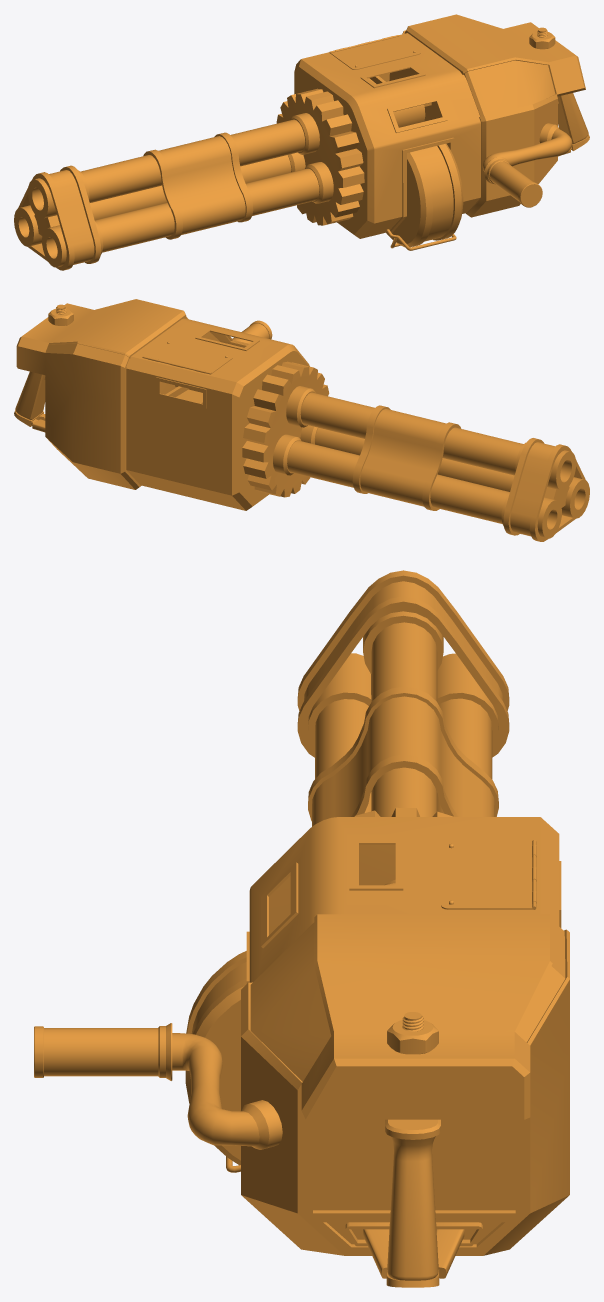
The model's file is LP_minik.fbx.
3 renders of one model, top to bottom at view 1: azimuth 30°, elevation 25°; view 2: azimuth 150°, elevation 25°; view 3: azimuth 270°, elevation 25°, orthographic. The views are drawn at different scales.
Parts seen in each view (by area): view 1: korpus_low, korpus2_low, detal2_dulo_low, gear_low, magazin_low, dulo2_low, detal_dulo_low, dulo1_low, dulo3_low, detal_dulo_2_low, zatvr_low, metal_ru_low (+9 smaller); view 2: korpus_low, korpus2_low, detal2_dulo_low, gear_low, dulo3_low, dulo1_low, detal_dulo_low, dulo2_low, detal_dulo_2_low, zatvr_low, handle_low, dulo1_osn_low (+4 smaller); view 3: korpus2_low, korpus_low, detal2_dulo_low, detal_dulo_low, dulo1_low, handle_low, zatvr_low, ru_derz_low, magazin_low, metal_ru_low, dulo2_low, dulo3_low (+7 smaller).
Part boxes in pixels (box(x1,y1,x2,y2)): korpus_low: box(294, 33, 480, 238); korpus2_low: box(402, 14, 585, 217); detal2_dulo_low: box(143, 132, 253, 239); gear_low: box(276, 88, 364, 225); magazin_low: box(386, 143, 463, 247); dulo2_low: box(94, 168, 319, 252); detal_dulo_low: box(14, 165, 103, 270); dulo1_low: box(80, 119, 304, 202); dulo3_low: box(90, 155, 291, 220); detal_dulo_2_low: box(49, 170, 94, 264); zatvr_low: box(330, 36, 420, 69); metal_ru_low: box(482, 128, 572, 171); korpus_low: box(126, 318, 309, 510); korpus2_low: box(16, 299, 188, 489); detal2_dulo_low: box(352, 405, 461, 510); gear_low: box(242, 361, 329, 497); dulo3_low: box(287, 440, 509, 523); dulo1_low: box(300, 392, 523, 475); detal_dulo_low: box(501, 438, 589, 541); dulo2_low: box(315, 427, 514, 491); detal_dulo_2_low: box(510, 442, 554, 536); zatvr_low: box(145, 341, 232, 373); handle_low: box(15, 371, 45, 420); dulo1_osn_low: box(286, 386, 315, 427); korpus2_low: box(241, 914, 569, 1255); korpus_low: box(246, 817, 561, 983); detal2_dulo_low: box(308, 686, 498, 826); detal_dulo_low: box(297, 570, 509, 757); dulo1_low: box(371, 622, 437, 816); handle_low: box(387, 1136, 438, 1280); zatvr_low: box(441, 842, 532, 909); ru_derz_low: box(44, 1028, 158, 1076); magazin_low: box(185, 951, 246, 1165); metal_ru_low: box(172, 1033, 259, 1146); dulo2_low: box(315, 699, 371, 812); dulo3_low: box(437, 698, 492, 813).
Size of the model in its own units: 667 by 181 by 283.
